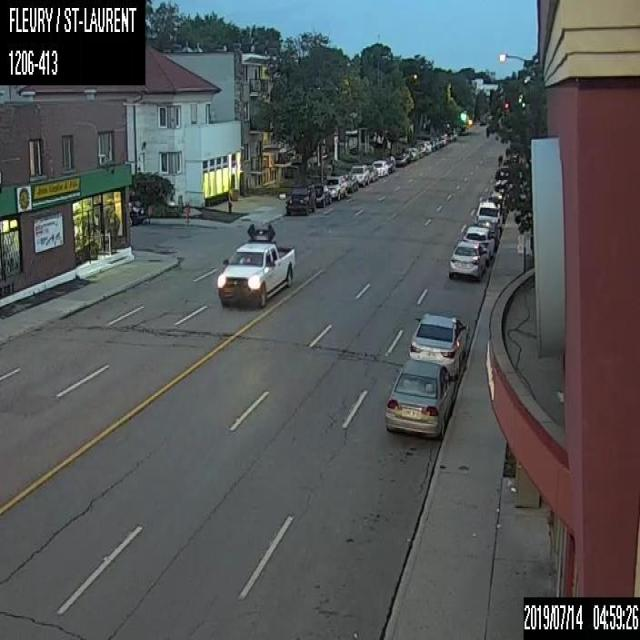construction: (184, 206, 189, 222), (147, 205, 151, 222)
vehicle: (216, 221, 294, 307), (383, 359, 458, 440), (407, 311, 469, 375), (448, 240, 487, 281), (462, 224, 494, 262), (473, 200, 502, 234), (284, 184, 314, 215), (325, 174, 346, 200), (314, 182, 332, 208), (349, 164, 369, 186), (129, 200, 145, 226), (372, 160, 388, 177), (382, 155, 395, 172), (346, 174, 358, 192), (394, 152, 408, 166), (368, 164, 378, 181), (408, 146, 418, 160), (402, 148, 411, 161)
